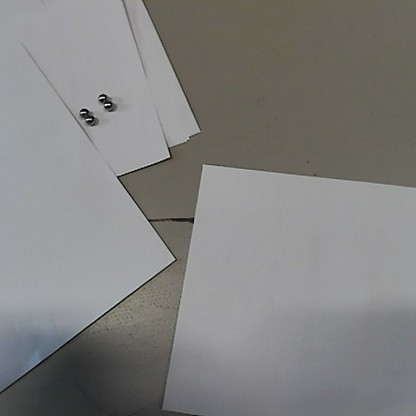ironball: (97, 91, 110, 105), (78, 106, 90, 120), (102, 100, 115, 112), (83, 113, 96, 125)
